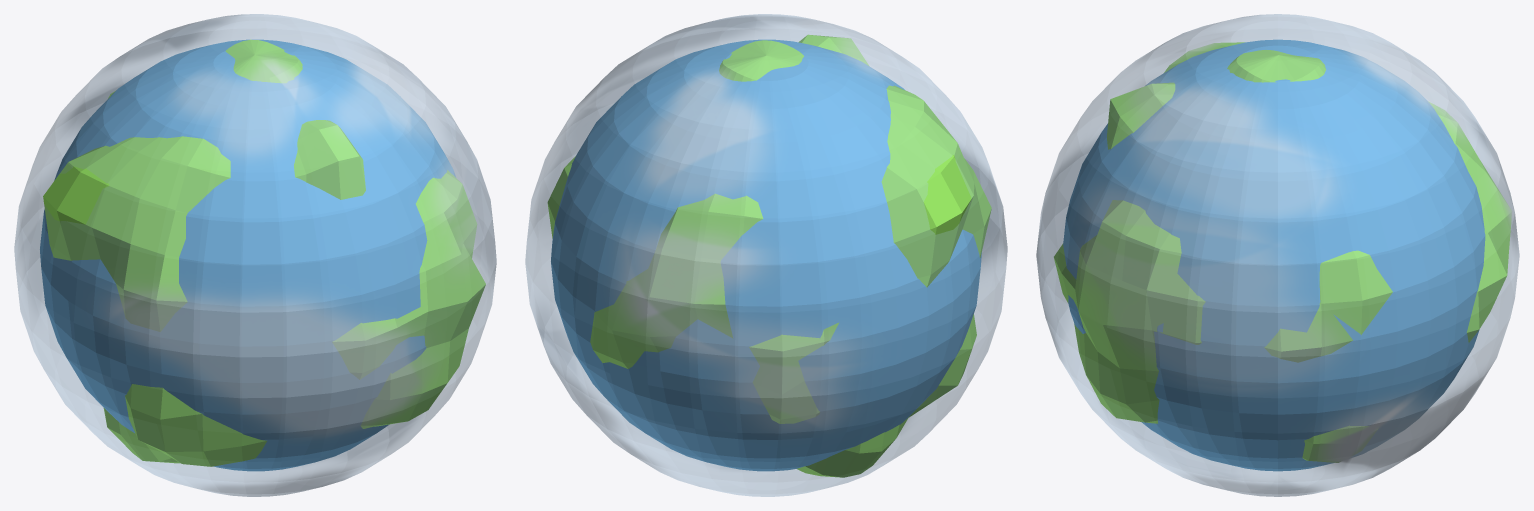
File: planet.glb
The picture shows the model from 3 angles, left to right: view 1: azimuth 30°, elevation 25°; view 2: azimuth 150°, elevation 25°; view 3: azimuth 270°, elevation 25°; orthographic projection.
Parts seen in each view (by area): view 1: sky, sea, ground; view 2: sky, sea, ground; view 3: sky, sea, ground.
Boxes of the visible parts, x1,y1,x2,y2 form: sky: [14, 14, 496, 496]; sea: [40, 39, 455, 471]; ground: [43, 39, 485, 466]; sky: [525, 14, 1007, 496]; sea: [551, 39, 981, 471]; ground: [547, 34, 991, 477]; sky: [1036, 14, 1519, 496]; sea: [1063, 39, 1485, 471]; ground: [1054, 42, 1511, 462].
Size of the model in its own units: 2.08 by 2.08 by 2.08.
Materials: 3 (1 with a texture image).
